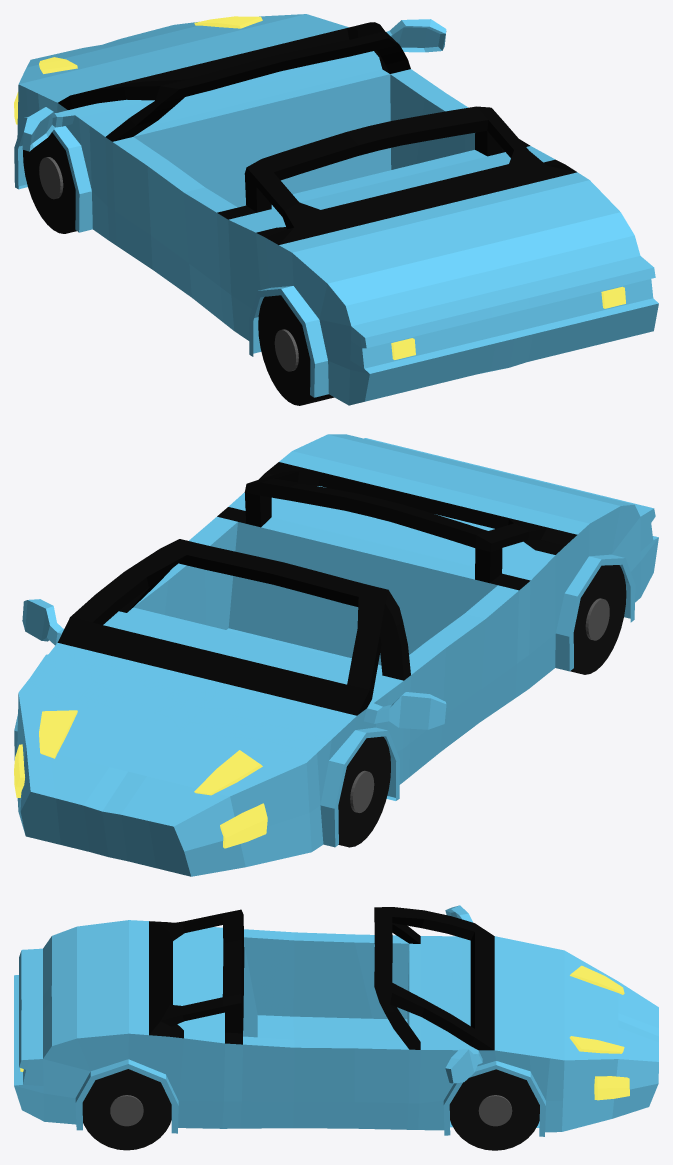
The model's file is carProtagonist.glb.
The picture shows the model from 3 angles, top to bottom: view 1: azimuth 30°, elevation 25°; view 2: azimuth 150°, elevation 25°; view 3: azimuth 270°, elevation 25°; orthographic projection. The views are drawn at different scales.
Parts seen in each view (by area): view 1: Car, Cylinder; view 2: Car, Cylinder; view 3: Car, Cylinder.
Part boxes in pixels (x1=…): Car: x1=14, y1=14, x2=658, y2=405; Cylinder: x1=23, y1=132, x2=76, y2=233; Car: x1=14, y1=434, x2=658, y2=876; Cylinder: x1=338, y1=736, x2=390, y2=847; Car: x1=14, y1=905, x2=658, y2=1150; Cylinder: x1=449, y1=1069, x2=539, y2=1150.
Size of the model in its own units: 1.69 by 0.7139 by 2.85.
